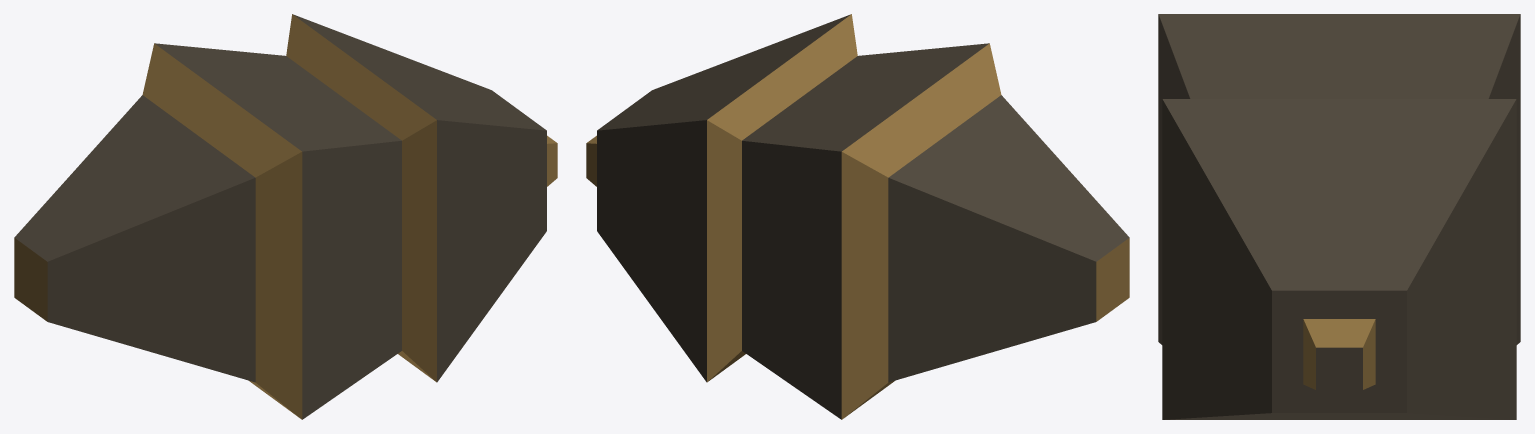
File: TinyTannenzapfen.fbx
3 renders of one model, left to right at view 1: azimuth 30°, elevation 25°; view 2: azimuth 150°, elevation 25°; view 3: azimuth 270°, elevation 25°, orthographic. The views are drawn at different scales.
Parts seen in each view (by area): view 1: TinyTannenzapfen; view 2: TinyTannenzapfen; view 3: TinyTannenzapfen.
Boxes of the visible parts, <box> form: TinyTannenzapfen: <box>14,14,557,419</box>; TinyTannenzapfen: <box>586,14,1129,419</box>; TinyTannenzapfen: <box>1158,14,1520,419</box>.
Bounding box in the file's own units: 75.11 × 37.24 × 37.24.
